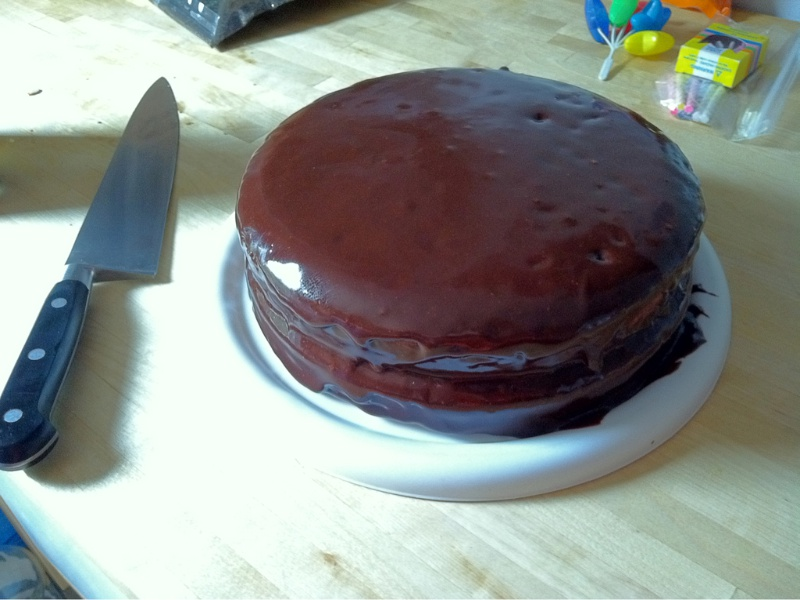knife: (1, 73, 186, 476)
